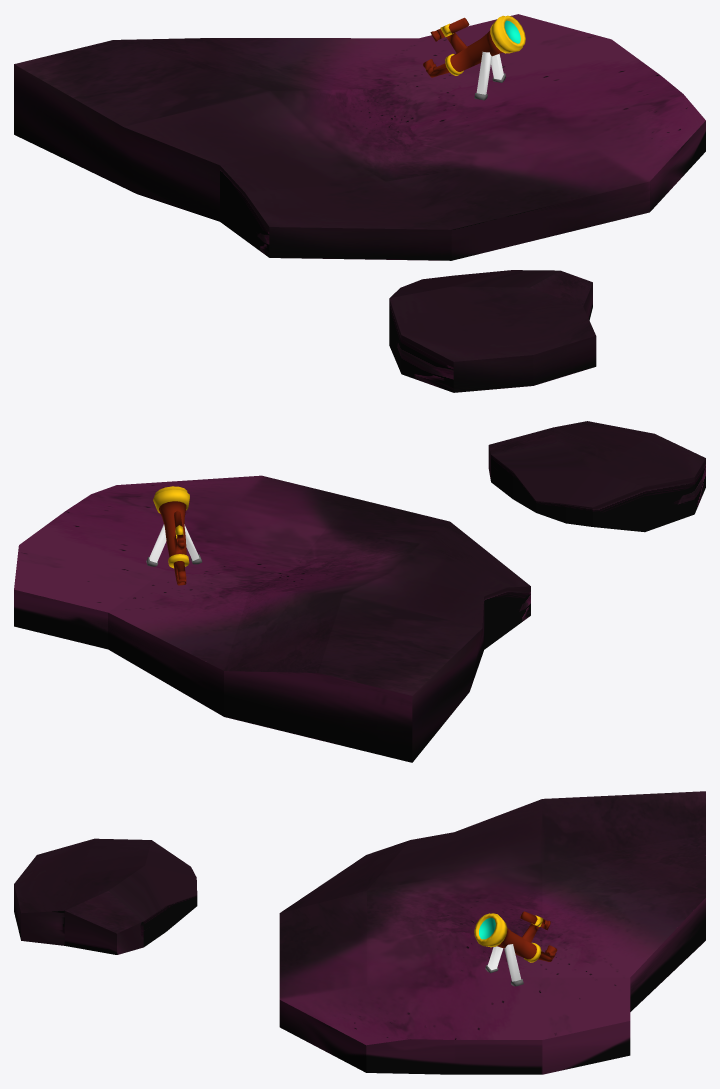
File: ArkanoidLvl1.fbx
3 renders of one model, top to bottom at view 1: azimuth 30°, elevation 25°; view 2: azimuth 150°, elevation 25°; view 3: azimuth 270°, elevation 25°, orthographic. The views are drawn at different scales.
Visible parts, largest first — view 1: Cube.104, Cube.127, Cube.115, Cube.126, Cube.094, Cube.116, Cube.105, Cube.114, Cube.099, Cube.125, Cube.117, Cube.124 (+19 smaller); view 2: Cube.104, Cube.105, Cube.106, Cube.107, Cube.108, Cube.109, Cube.115, Cube.116, Cube.082, Cube.136, Cube.117, Cube.127 (+21 smaller); view 3: Cube.105, Cube.104, Cube.106, Cube.110, Cube.109, Cube.117, Cube.114, Cube.115, Cube.107, Cube.122, Cube.126, Cube.100 (+21 smaller).
Boxes of the visible parts, box(x1,y1,x2,y2) form: Cube.104: box(14, 40, 269, 193); Cube.127: box(244, 181, 451, 260); Cube.115: box(123, 91, 318, 221); Cube.126: box(386, 166, 550, 260); Cube.094: box(401, 321, 533, 392); Cube.116: box(220, 141, 384, 239); Cube.105: box(114, 38, 368, 90); Cube.114: box(270, 89, 417, 141); Cube.099: box(493, 307, 596, 385); Cube.125: box(485, 154, 600, 236); Cube.117: box(320, 134, 484, 181); Cube.124: box(534, 142, 649, 224); Cube.104: box(318, 594, 482, 762); Cube.105: box(224, 592, 342, 739); Cube.106: box(166, 585, 248, 716); Cube.107: box(108, 578, 201, 682); Cube.108: box(61, 562, 154, 649); Cube.109: box(14, 545, 86, 637); Cube.115: box(343, 573, 484, 690); Cube.116: box(390, 544, 507, 649); Cube.082: box(593, 452, 694, 531); Cube.136: box(566, 471, 644, 532); Cube.117: box(296, 529, 419, 573); Cube.127: box(420, 522, 530, 632); Cube.105: box(542, 834, 705, 924); Cube.104: box(542, 791, 705, 862); Cube.106: box(542, 897, 705, 975); Cube.110: box(454, 1009, 542, 1074); Cube.109: box(542, 999, 630, 1074); Cube.117: box(367, 875, 454, 941); Cube.114: box(454, 863, 542, 934); Cube.115: box(454, 799, 542, 875); Cube.107: box(542, 937, 668, 1011); Cube.122: box(323, 1012, 410, 1073); Cube.126: box(279, 891, 366, 956); Cube.100: box(64, 891, 143, 954).
Bounding box in the file's own units: 14.51 × 3.12 × 19.24.
Materials: 6 (1 with a texture image).
